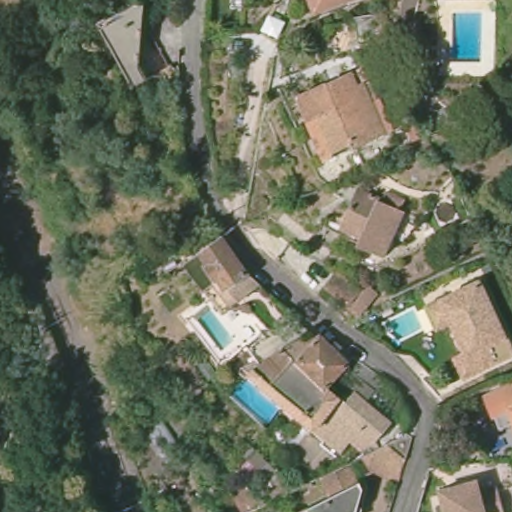pool: (228, 378, 281, 426), (447, 8, 487, 67), (194, 303, 236, 350), (380, 309, 425, 341)
